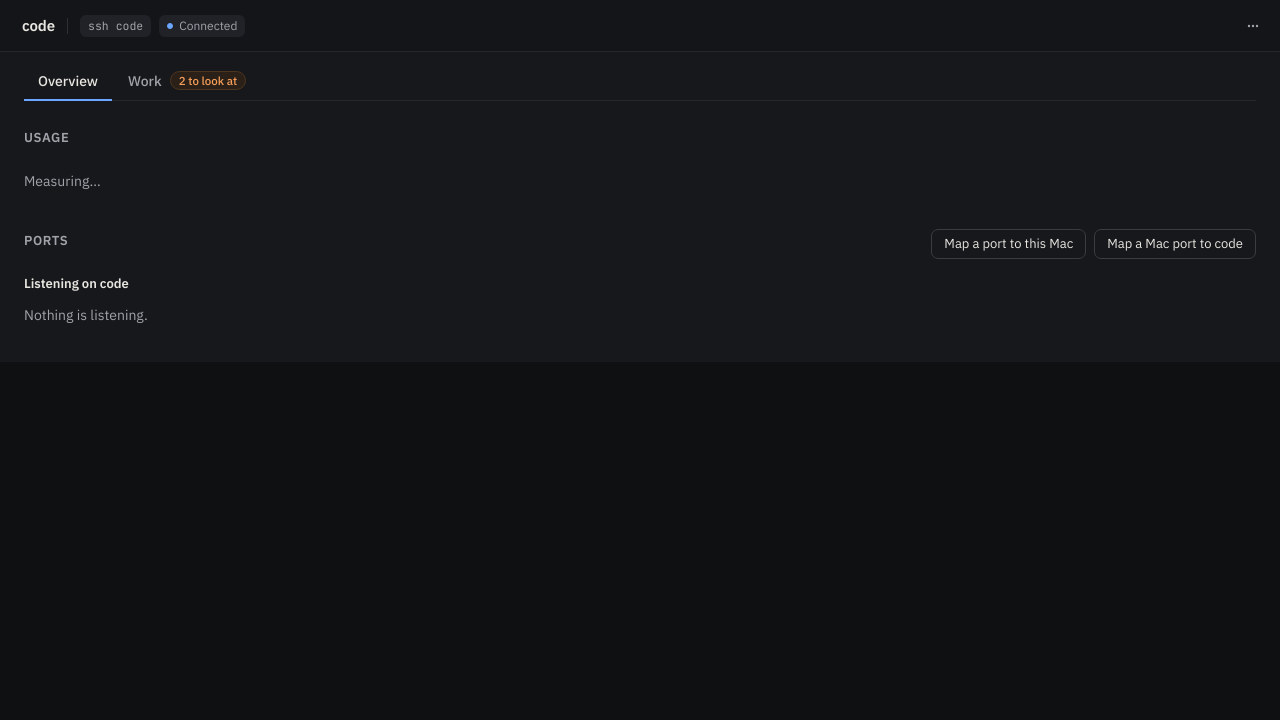
Scenario: the host page's tabs › opens on Overview, badges Work with the strays, and remembers the tab
This screenshot has width=1280, height=720.
Click the tab "Work 2 to look at". click: coordinates (187, 82)
box: x1=114 y1=62 x2=260 y2=101
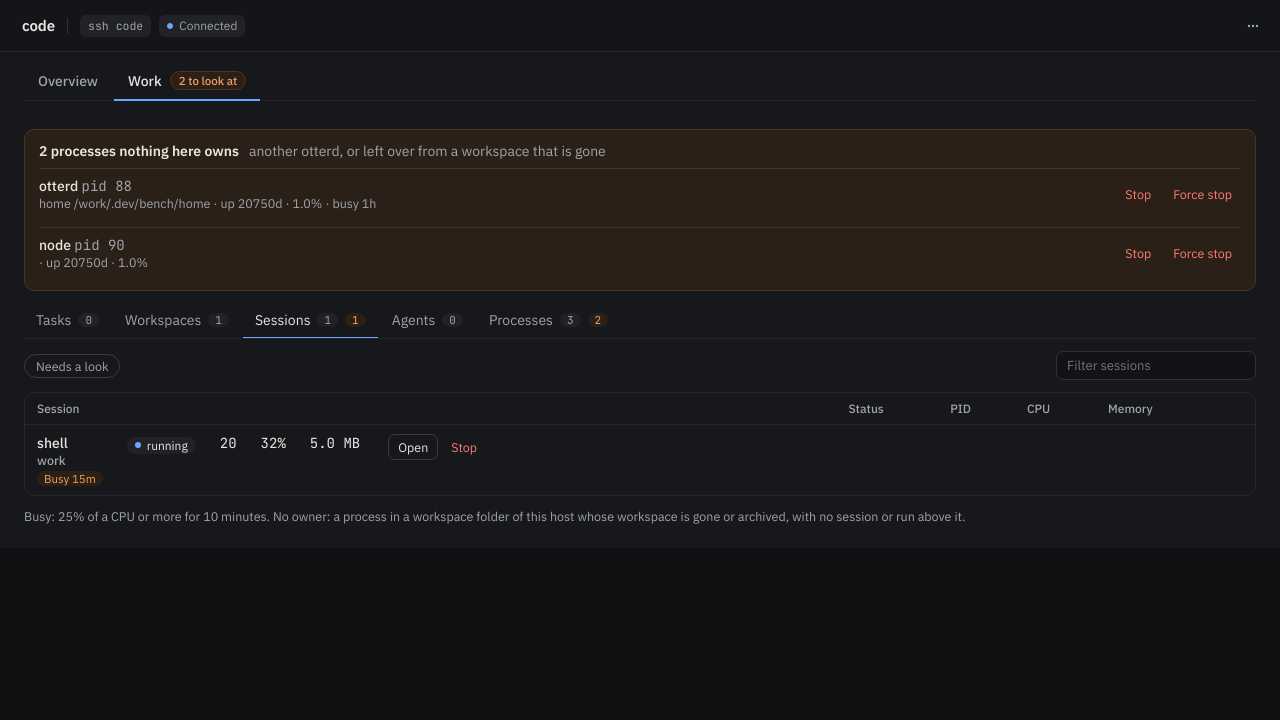
Check: the element with class "host-work" is shown, box x1=24 y1=123 x2=1256 y2=524
